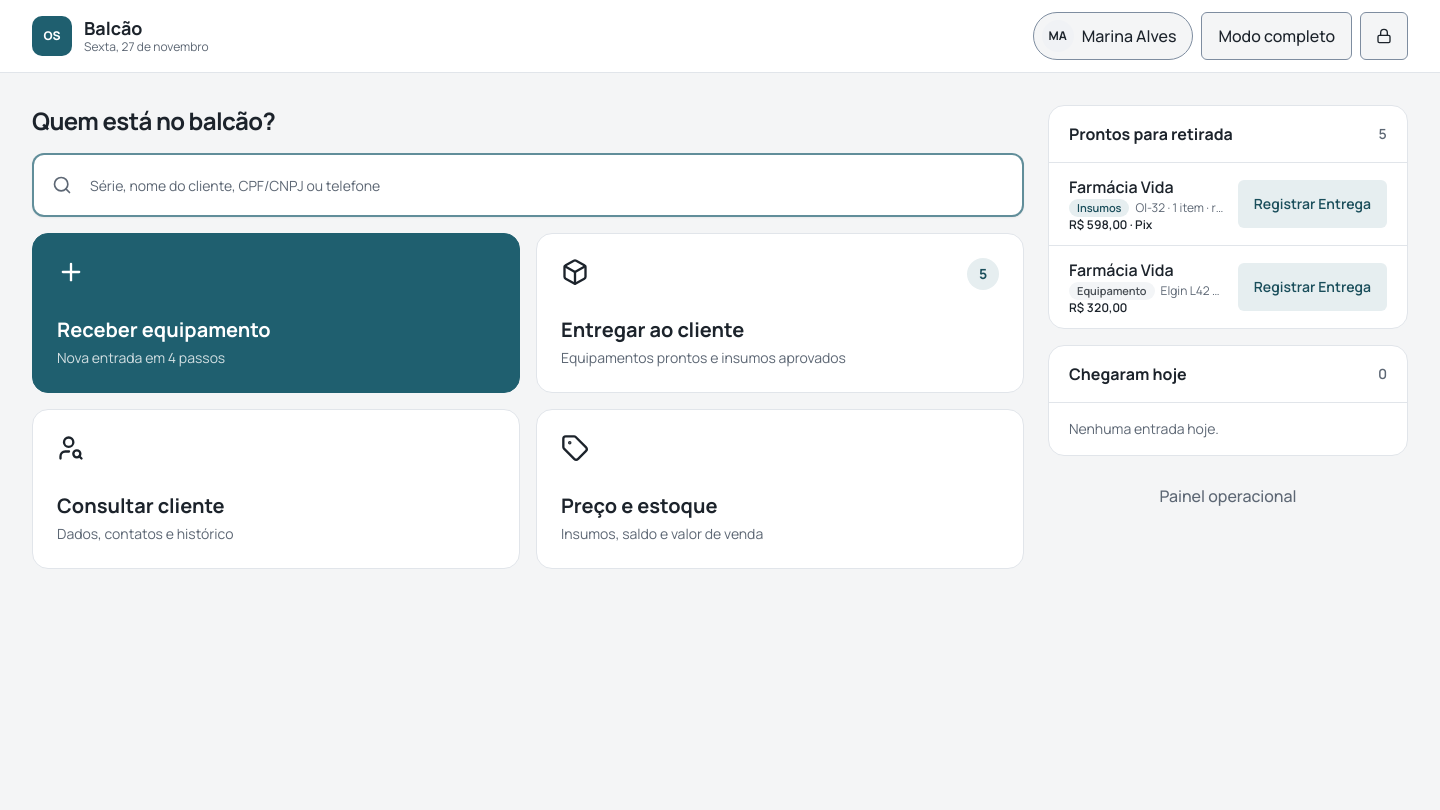
Test case: Balcão: entregar venda de insumos (V.7) › busca por OI-n mostra a venda aprovada com botão e a não aprovada com o motivo; o filtro Insumos separa
Click the button "Entregar ao cliente".
click(653, 330)  # box [536, 233, 1024, 393]
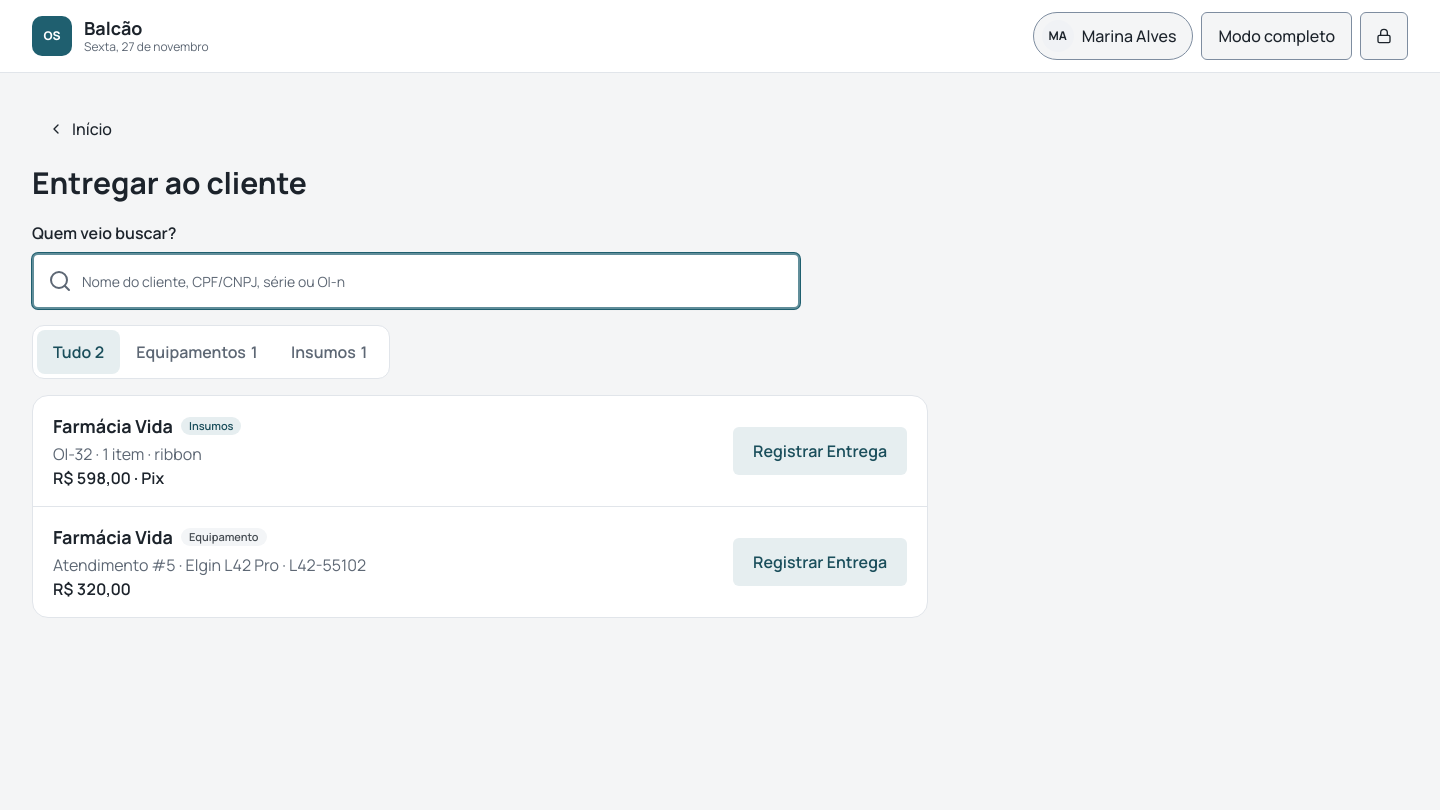
Type "OI-3" into the field labelled "Quem veio buscar?".
click(416, 281); type("OI-3")  # box [32, 253, 800, 309]
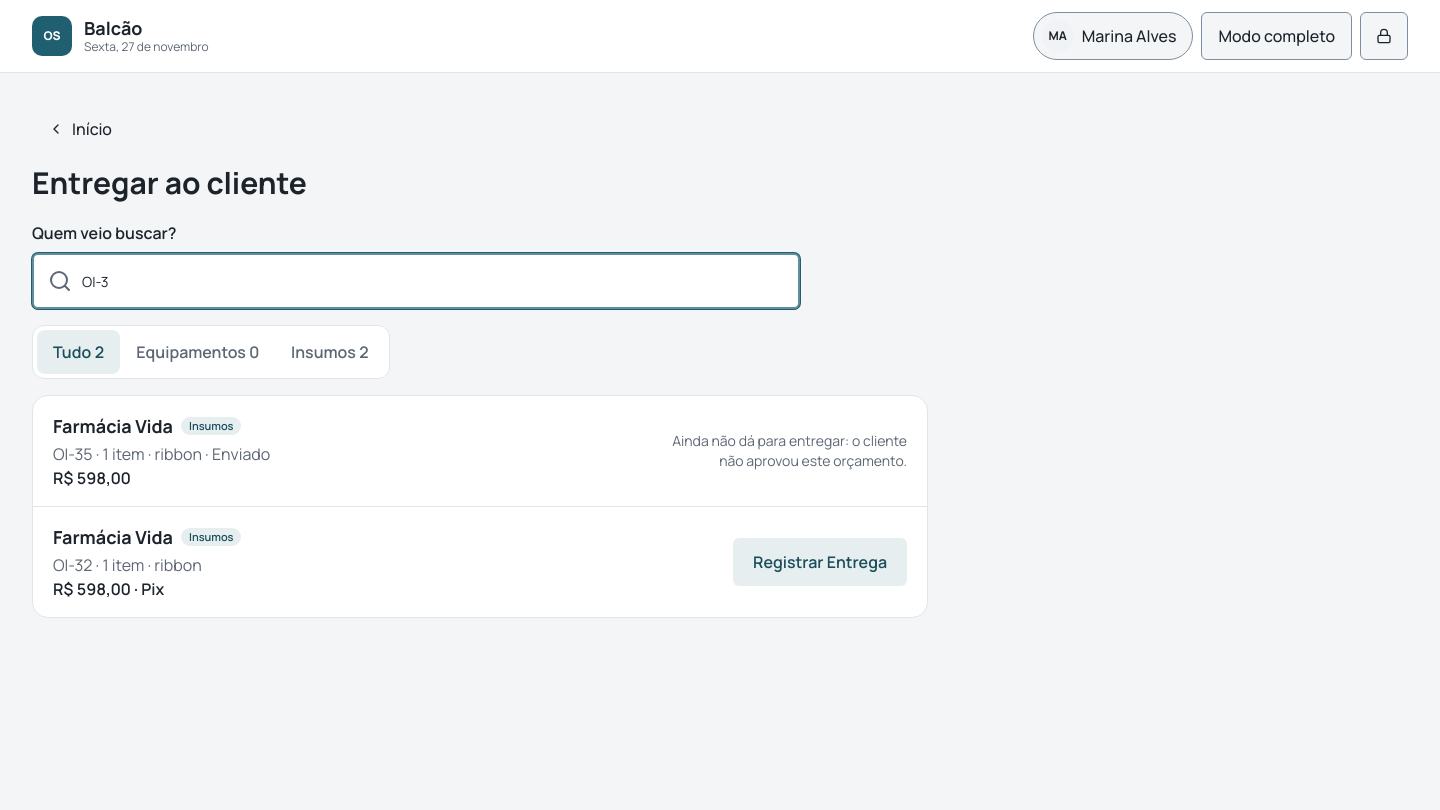
Expected: the number of buttons "Registrar Entrega" is 1, [733, 538, 907, 586]
Expected: the text "OI-35 · 1 item · ribbon · Enviado" is shown, [53, 443, 270, 465]
Expected: the text "Ainda não dá para entregar: o cliente não aprovou este orçamento." is shown, [651, 431, 907, 471]
Click the button "Equipamentos 0".
click(198, 352)  # box [120, 330, 275, 374]
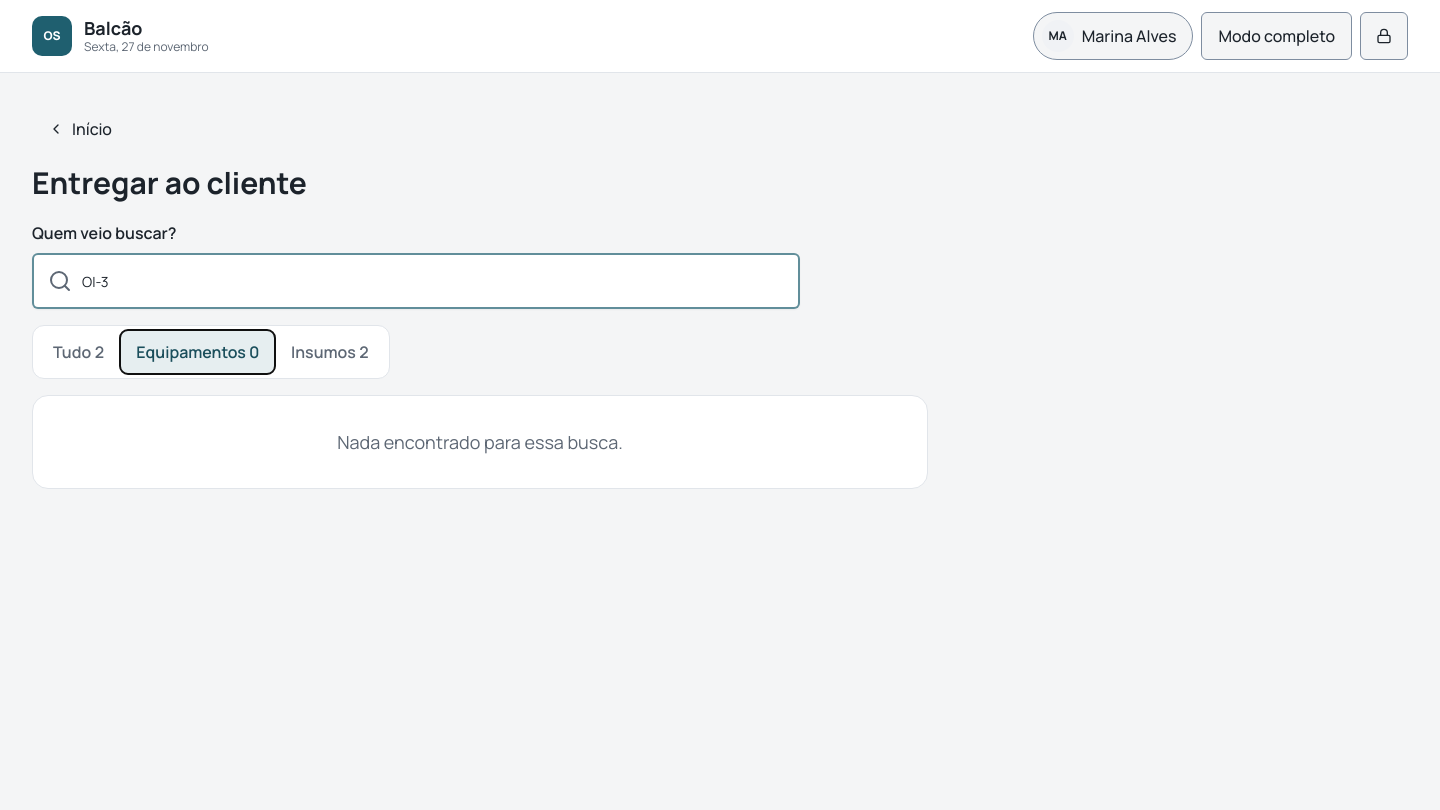
Expected: the button "OI-32" is gone
